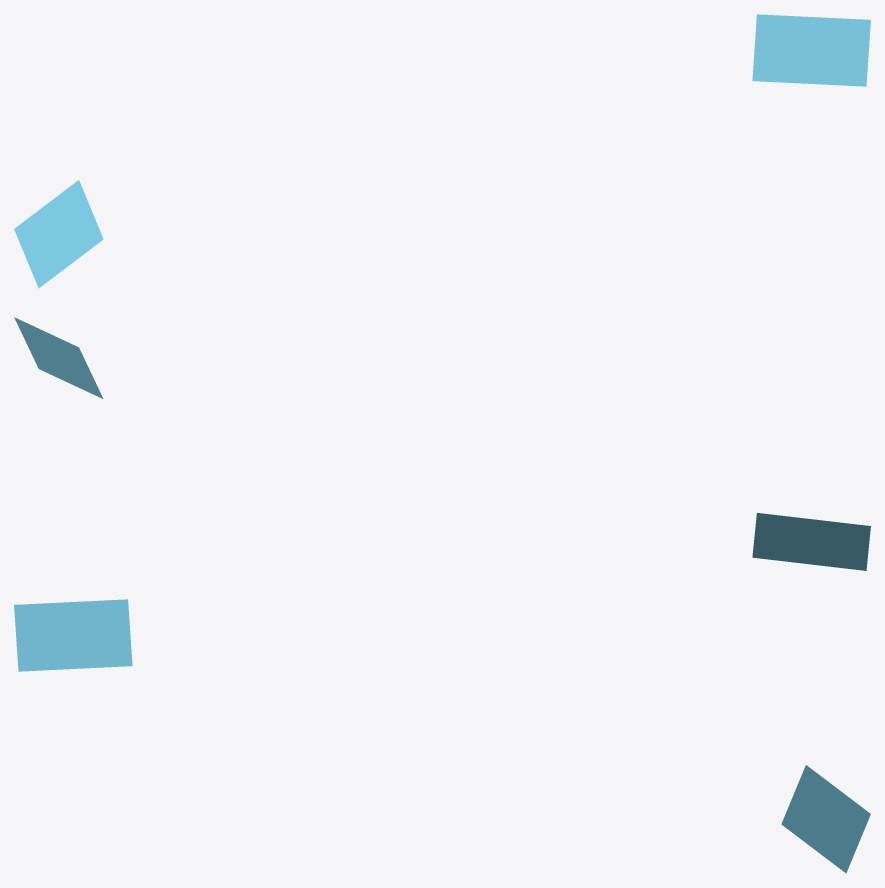
Rendered from mirror.glb.
3 renders of one model, top to bottom at view 1: azimuth 30°, elevation 25°; view 2: azimuth 150°, elevation 25°; view 3: azimuth 330°, elevation 25°, orthographic.
Visible parts, largest first — view 1: mirror_Cube.004; view 2: mirror_Cube.004; view 3: mirror_Cube.004.
Part boxes in pixels (x1,y1,x2,y2): mirror_Cube.004: [14, 14, 870, 288]; mirror_Cube.004: [14, 317, 870, 570]; mirror_Cube.004: [14, 599, 870, 873].
Size of the model in its own units: 2.58 by 0.188 by 0.1808.
Materials: 1 (1 with a texture image).
